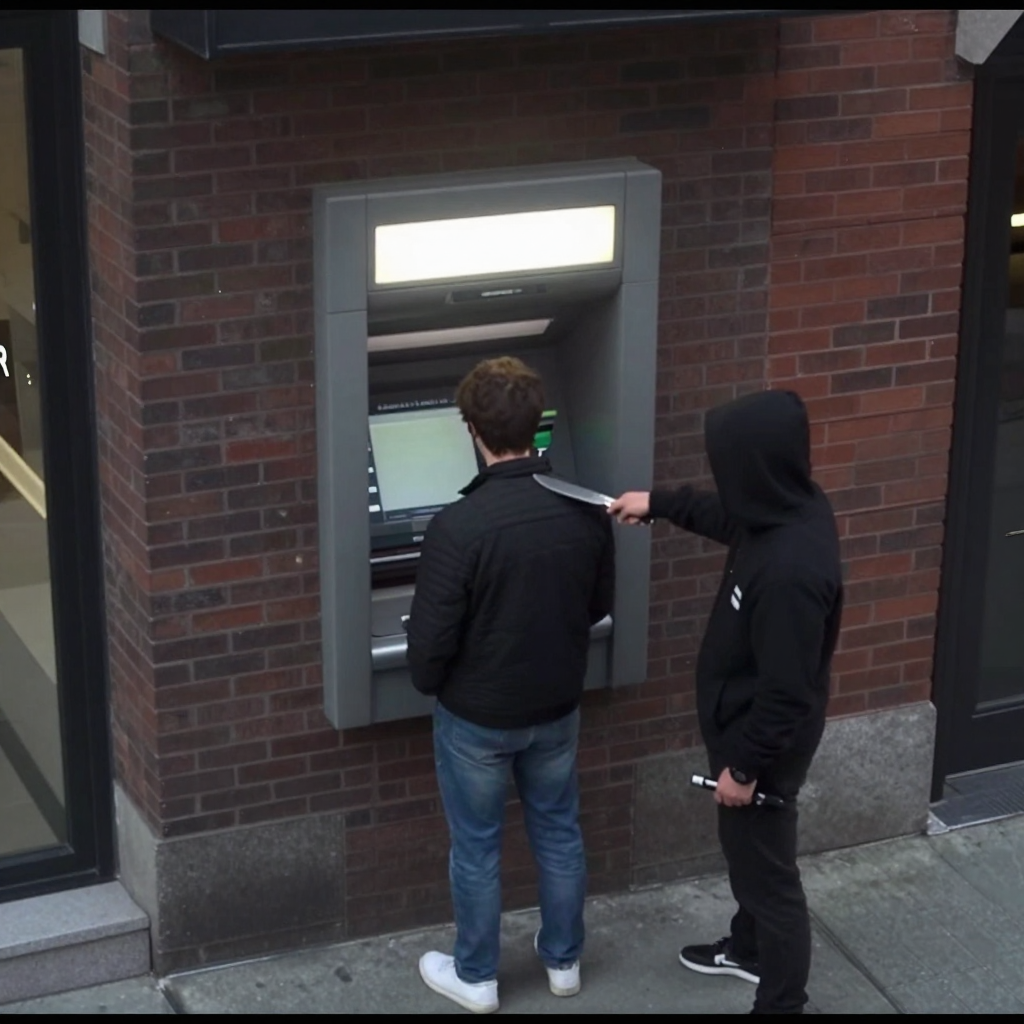Assault: (531, 470, 660, 534)
Robbery: (607, 389, 845, 1016), (403, 356, 615, 1015)
